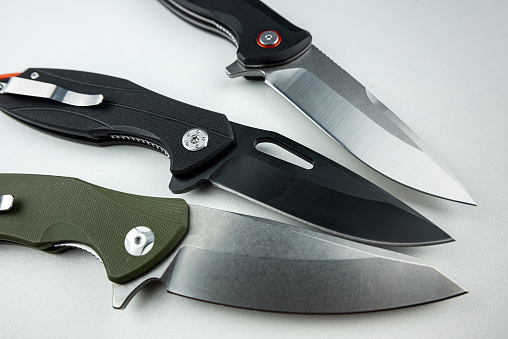knife: (0, 64, 457, 249), (0, 171, 471, 311), (158, 2, 479, 206)
